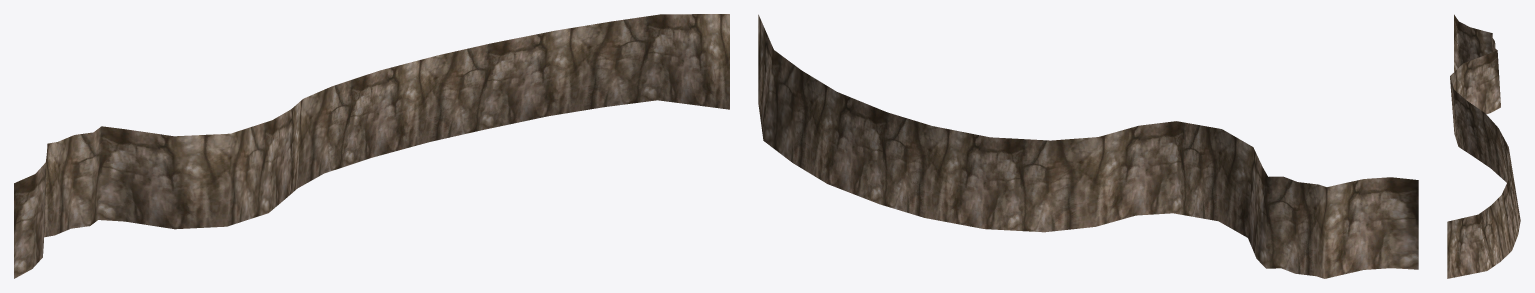
Rendered from OVERHILL_A_01_OBJECT150.fbx.
3 renders of one model, left to right at view 1: azimuth 30°, elevation 25°; view 2: azimuth 150°, elevation 25°; view 3: azimuth 270°, elevation 25°, orthographic. The views are drawn at different scales.
Visible parts, largest first — view 1: OVERHILL_A_01_OBJECT150; view 2: OVERHILL_A_01_OBJECT150; view 3: OVERHILL_A_01_OBJECT150.
Boxes of the visible parts, box(x1,y1,x2,y2) form: OVERHILL_A_01_OBJECT150: box(14, 14, 729, 278); OVERHILL_A_01_OBJECT150: box(758, 14, 1418, 278); OVERHILL_A_01_OBJECT150: box(1447, 14, 1520, 278).
Size of the model in its own units: 326446 by 50354 by 48774.
1 material, 1 textured.
